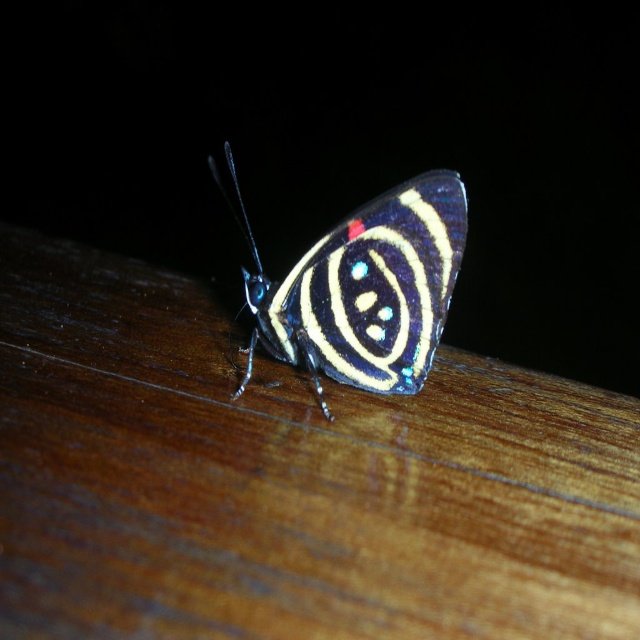Butterfly: (205, 142, 469, 421)
